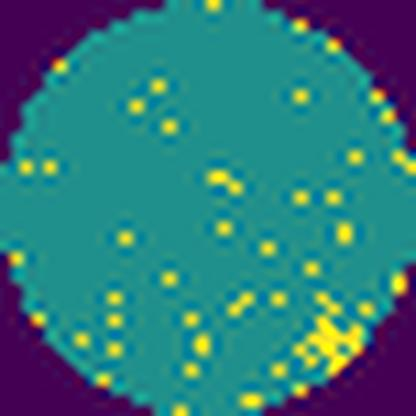Edge-Loc: (293, 312, 374, 384)
